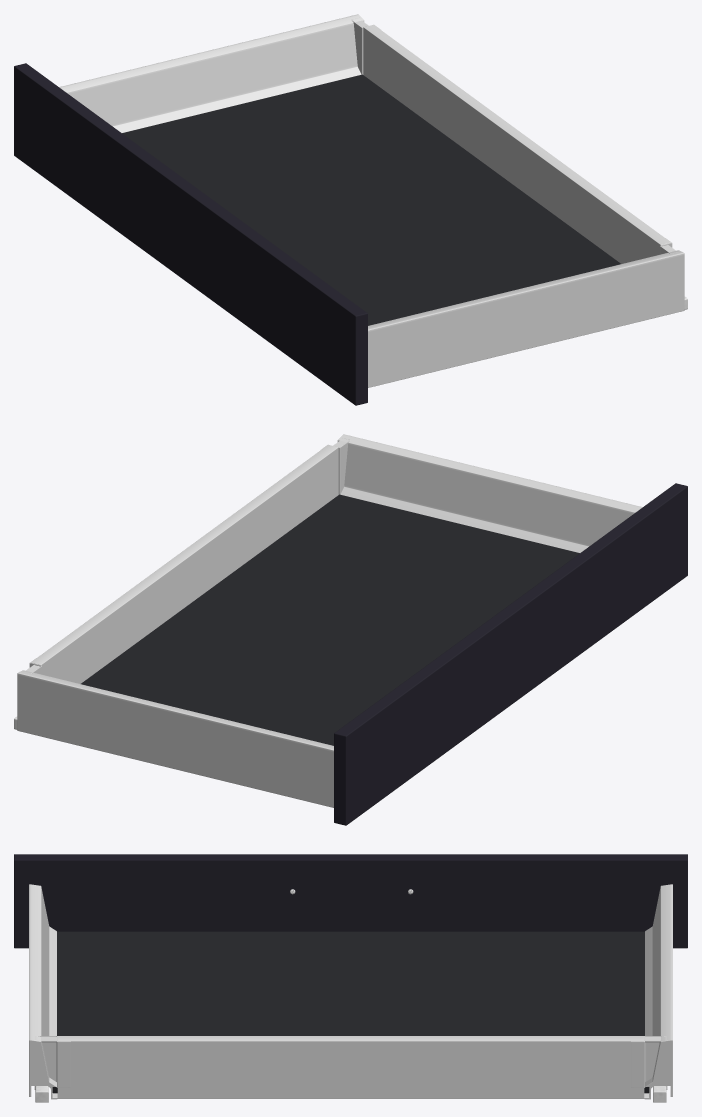
Rendered from SM_Kitchen_11_Drawer_01.dae.
The picture shows the model from 3 angles, top to bottom: view 1: azimuth 30°, elevation 25°; view 2: azimuth 150°, elevation 25°; view 3: azimuth 270°, elevation 25°; orthographic projection.
Parts seen in each view (by area): view 1: SM_Kitchen_11_Drawer_01; view 2: SM_Kitchen_11_Drawer_01; view 3: SM_Kitchen_11_Drawer_01.
Part boxes in pixels (x1,y1,x2,y2): SM_Kitchen_11_Drawer_01: (14, 14, 687, 405); SM_Kitchen_11_Drawer_01: (14, 434, 687, 825); SM_Kitchen_11_Drawer_01: (14, 854, 687, 1102).
Size of the model in its own units: 0.5199 by 0.8969 by 0.13.
Materials: 4 (4 with a texture image).
